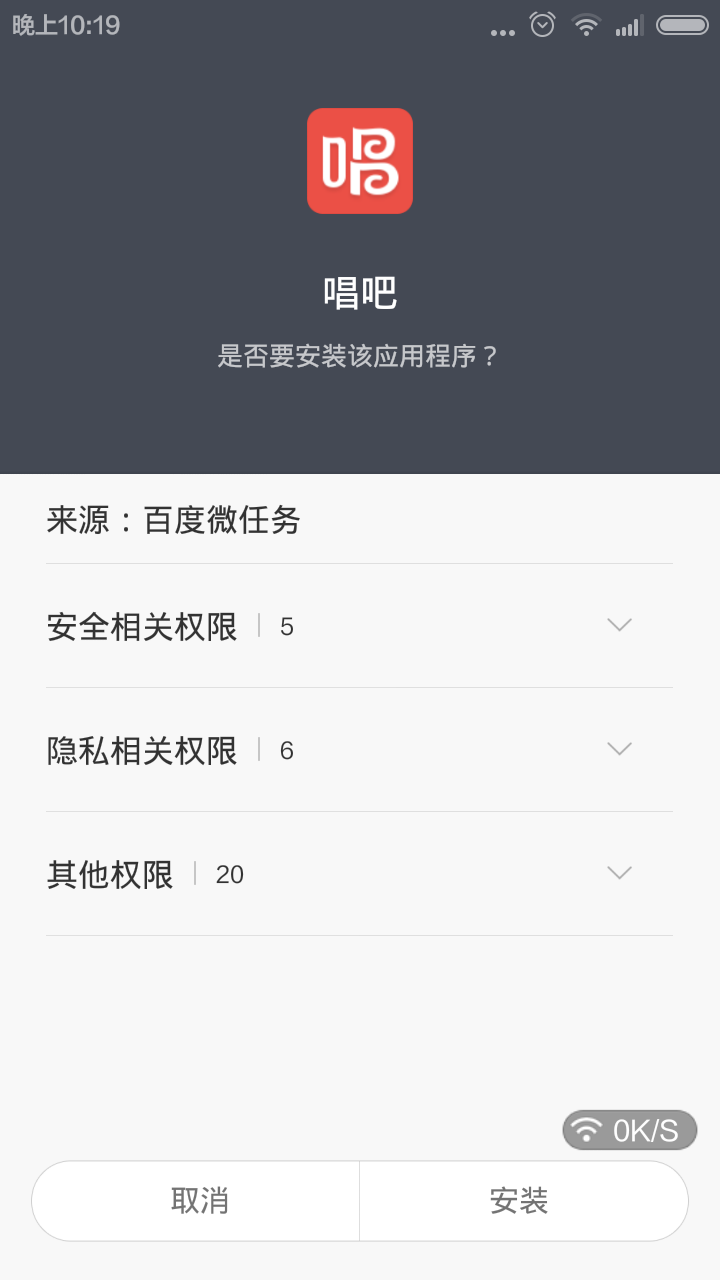button: (35, 1159, 378, 1248), (357, 1156, 697, 1245)
textview: (199, 270, 536, 391)
